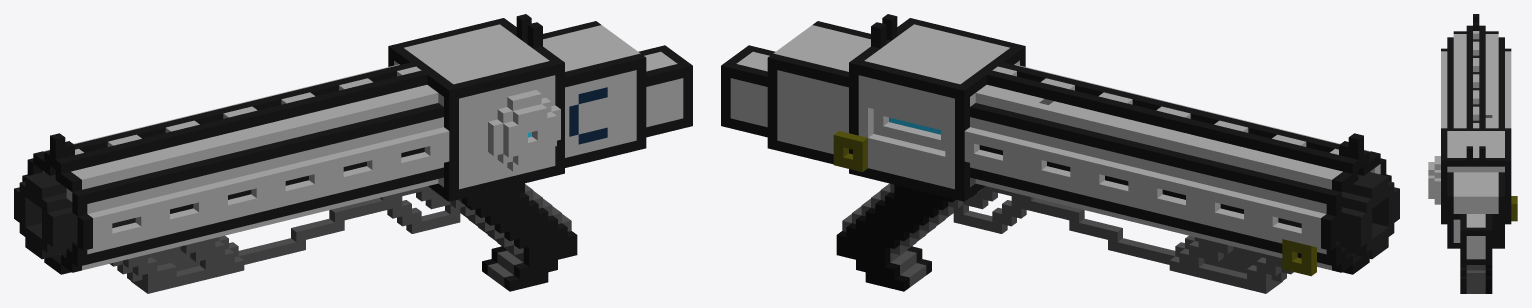
Rendered from Blaster.FBX.
3 views of the same model, side by side, from view 1: azimuth 30°, elevation 25°; view 2: azimuth 150°, elevation 25°; view 3: azimuth 270°, elevation 25° (orthographic). The views are drawn at different scales.
Parts seen in each view (by area): view 1: default; view 2: default; view 3: default.
Part boxes in pixels (bbox=[...]): default: bbox=[14, 14, 692, 293]; default: bbox=[721, 14, 1399, 293]; default: bbox=[1428, 14, 1517, 293].
Bounding box in the file's own units: 6.7 × 1.4 × 2.5.
Materials: 1 (1 with a texture image).
